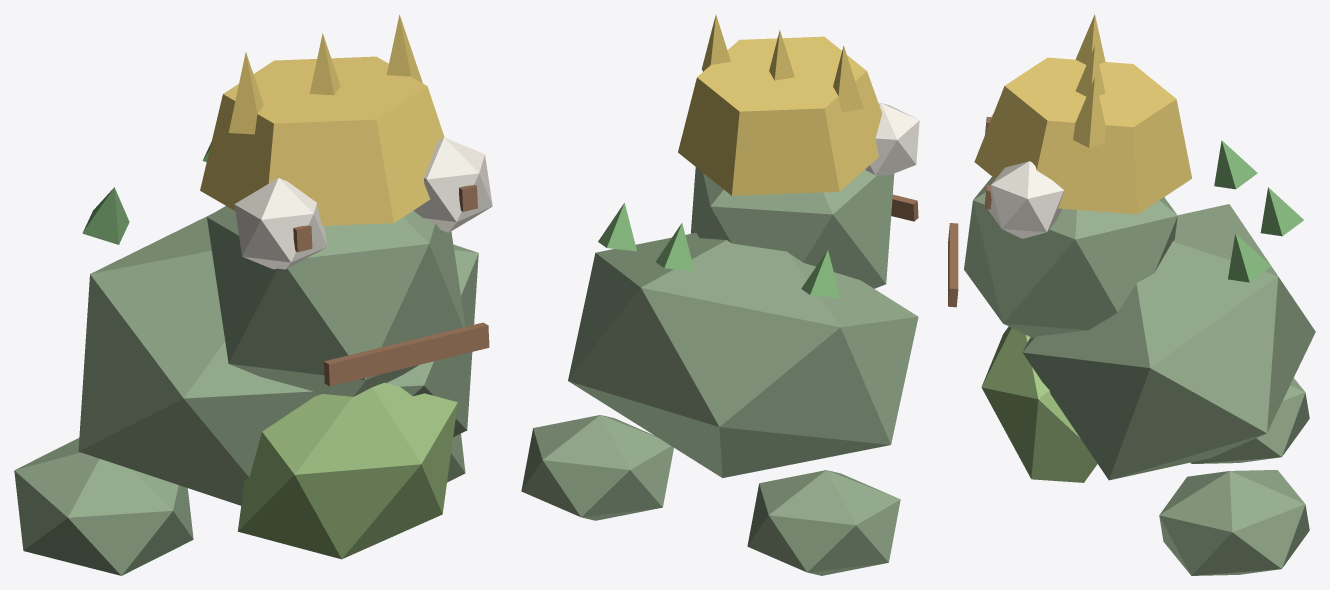
The model's file is npcpose_toad_king_attack_07.glb.
3 views of the same model, side by side, from view 1: azimuth 30°, elevation 25°; view 2: azimuth 150°, elevation 25°; view 3: azimuth 270°, elevation 25° (orthographic). The views are drawn at different scales.
Parts seen in each view (by area): view 1: npcpose; view 2: npcpose; view 3: npcpose.
Boxes of the visible parts, x1,y1,x2,y2 form: npcpose: [14, 14, 492, 575]; npcpose: [521, 15, 919, 575]; npcpose: [948, 14, 1315, 575].
Bounding box in the file's own units: 1.75 × 2.18 × 1.53.
